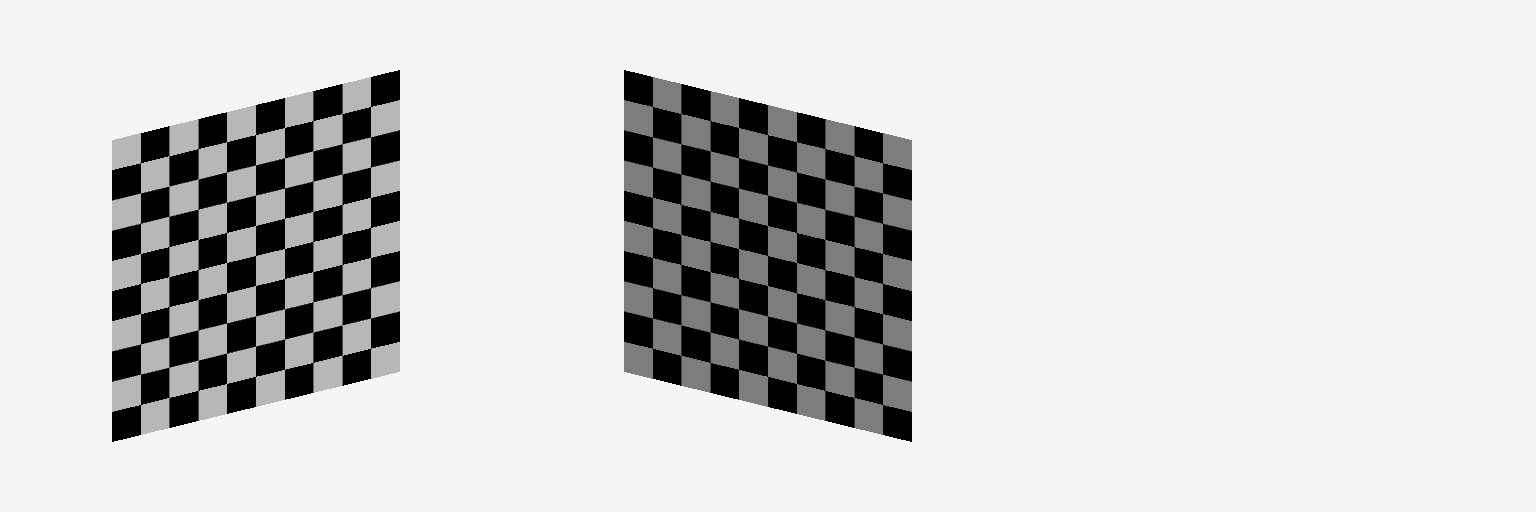
The picture shows the model from 3 angles: view 1: azimuth 30°, elevation 25°; view 2: azimuth 150°, elevation 25°; view 3: azimuth 270°, elevation 25°; orthographic projection.
Visible parts, largest first — view 1: Plane; view 2: Plane; view 3: none.
Part boxes in pixels (x1,y1,x2,y2): Plane: (112,70,399,441); Plane: (624,70,911,441).
Size of the model in its own units: 10 by 10 by 0.
Materials: 1 (1 with a texture image).